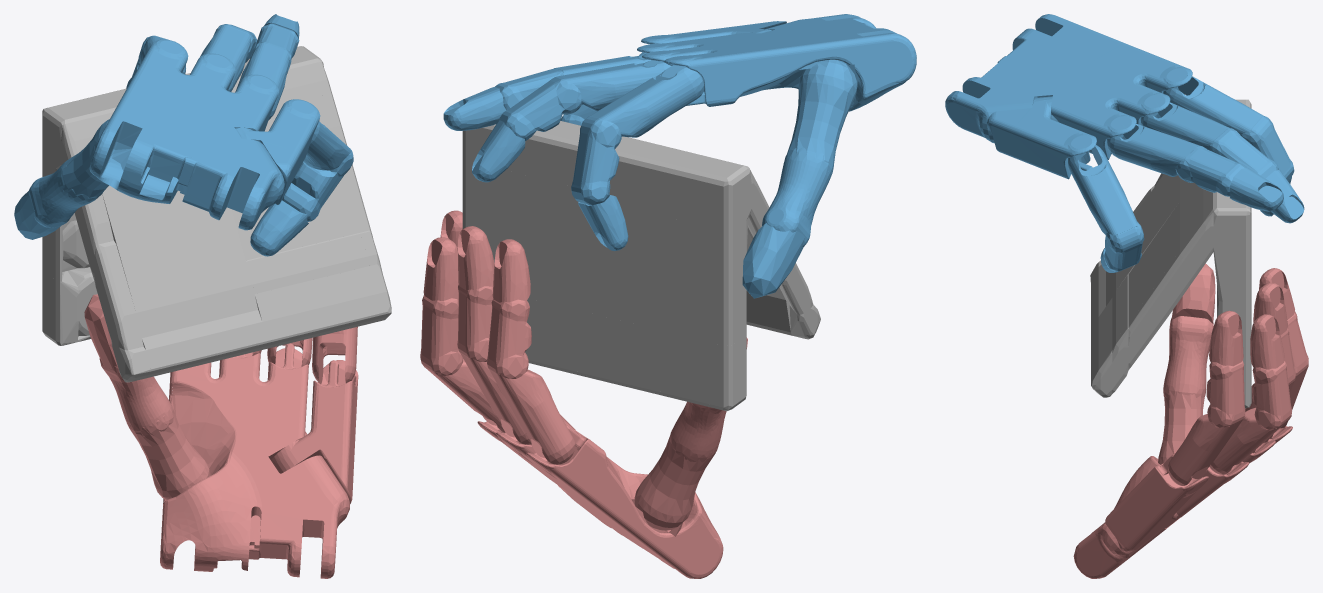
The model's file is FoodItem_mesh.glb.
3 views of the same model, side by side, from view 1: azimuth 30°, elevation 25°; view 2: azimuth 150°, elevation 25°; view 3: azimuth 270°, elevation 25° (orthographic). The views are drawn at different scales.
Visible parts, largest first — view 1: geom_0, geom_2, geom_1; view 2: geom_0, geom_1, geom_2; view 3: geom_1, geom_2, geom_0.
Boxes of the visible parts, left/top/right/bottom form: geom_0: left=42, top=46, right=391, bottom=382; geom_2: left=84, top=294, right=358, bottom=578; geom_1: left=14, top=14, right=353, bottom=256; geom_0: left=462, top=121, right=820, bottom=411; geom_1: left=443, top=14, right=916, bottom=298; geom_2: left=420, top=210, right=747, bottom=578; geom_1: left=945, top=14, right=1304, bottom=272; geom_2: left=1073, top=263, right=1308, bottom=578; geom_0: left=1090, top=99, right=1251, bottom=408.
Size of the model in its own units: 0.1919 by 0.2608 by 0.187.
